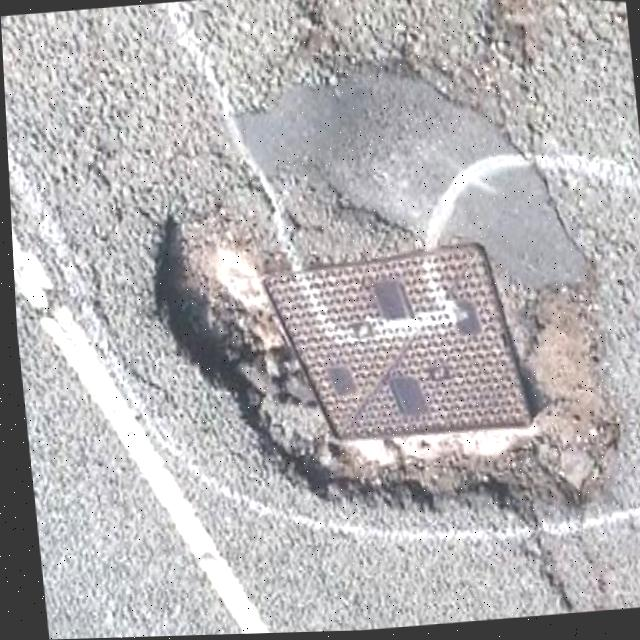Pothole: (98, 113, 640, 572)
